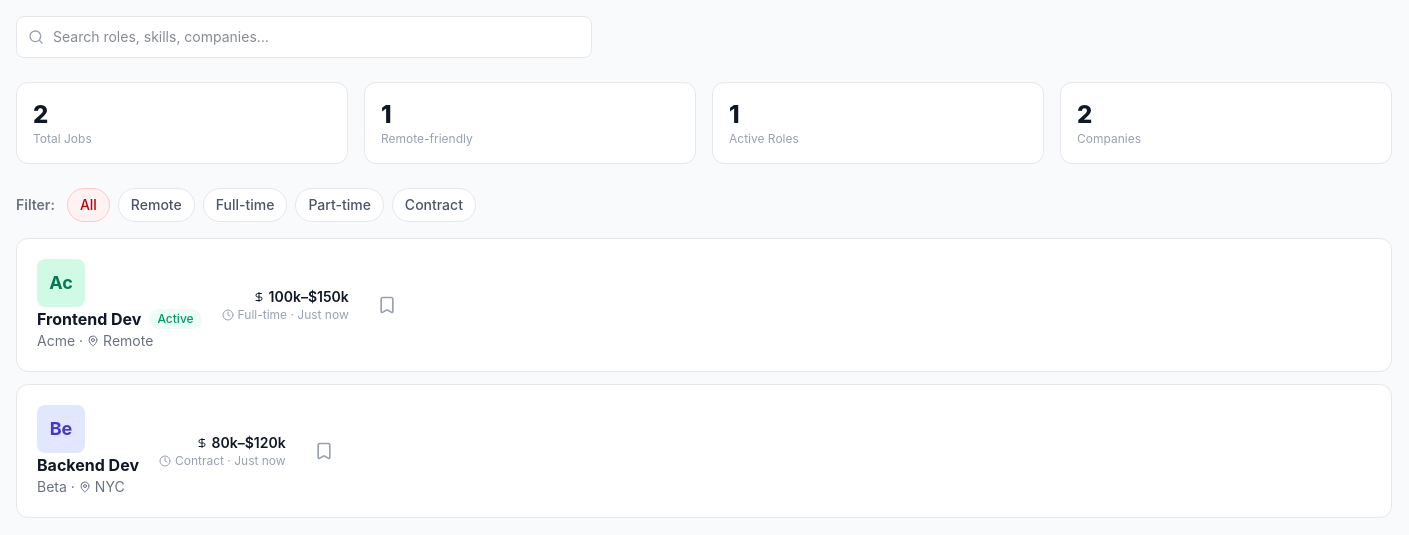
Jobs page › filters by type chip
This screenshot has width=1409, height=535.
expect the heading "Frontend Dev" is shown: met, box [37,307,141,331]
Click the button "Contract". click: point(434, 205)
box: [392,188,476,222]
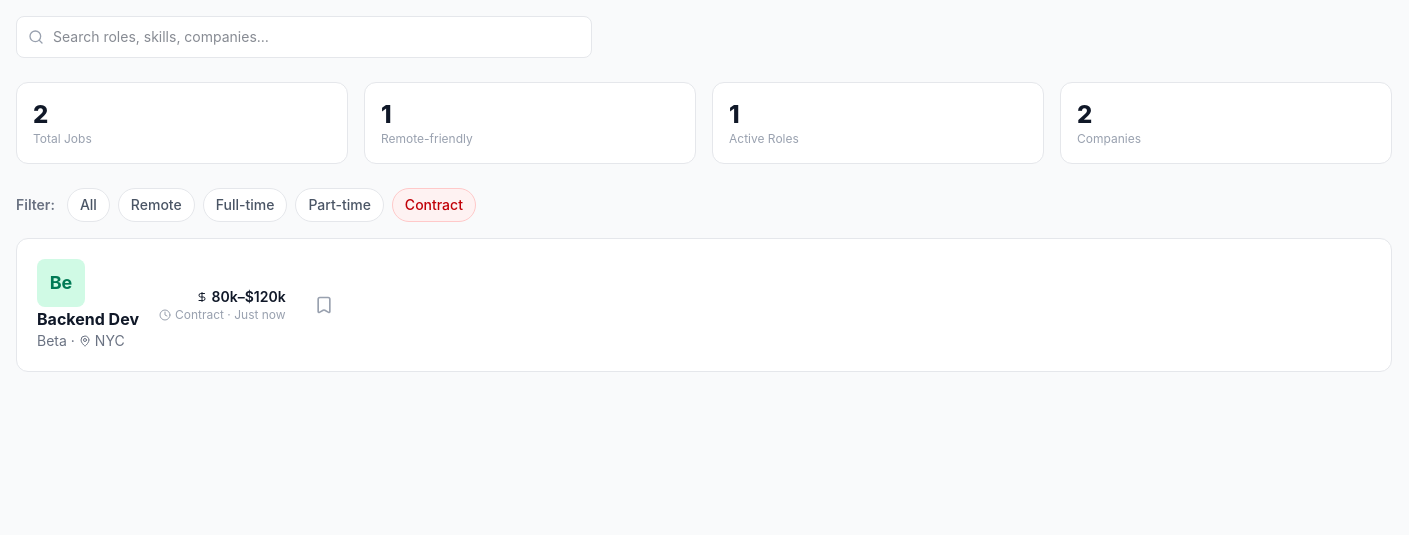
expect the heading "Backend Dev" is shown: met, box [37,307,139,331]
expect the link "Frontend Dev" is gone: met
